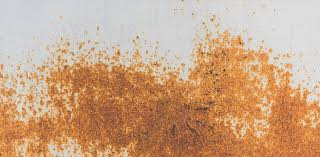rust: (5, 62, 320, 154), (6, 117, 154, 149), (175, 76, 237, 151), (191, 33, 257, 89), (49, 37, 135, 76)
